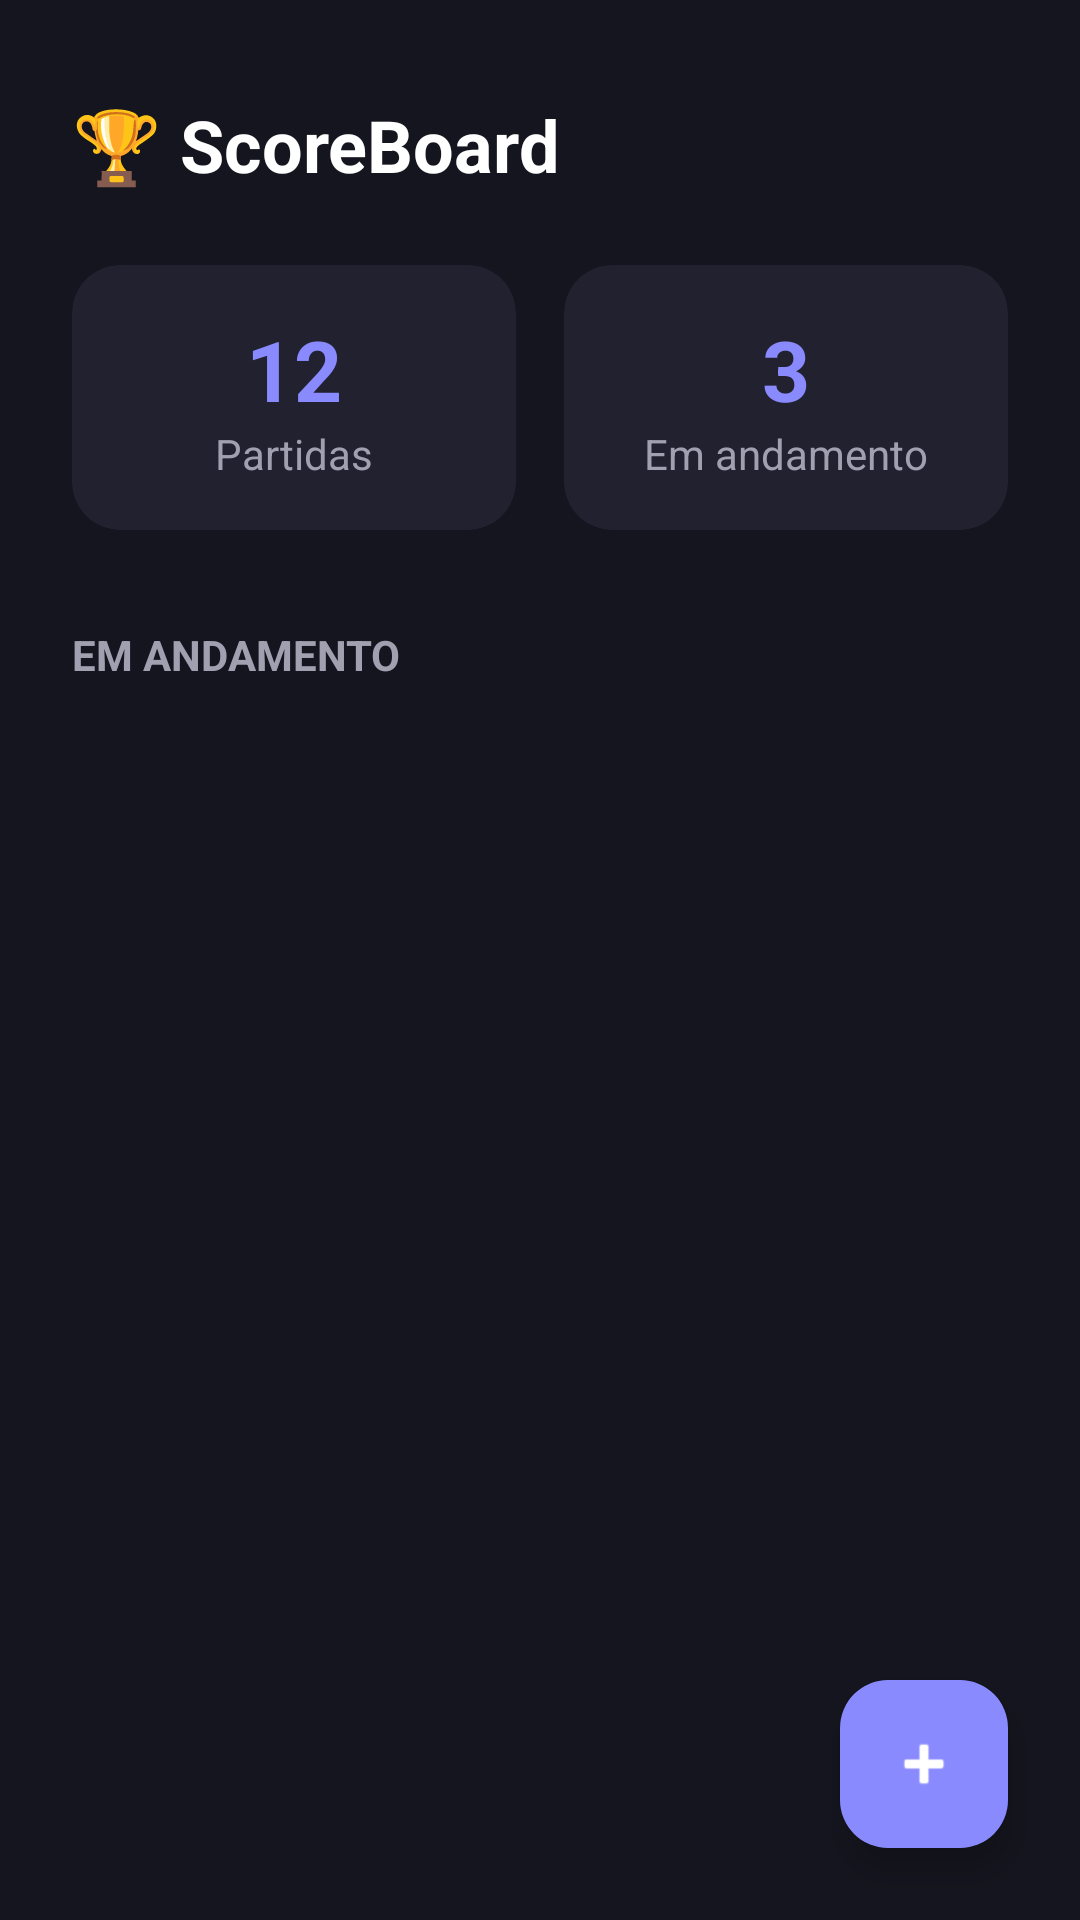

Screen size 1080 × 1920. Icon name, then its center in pixels as point (x, y):
Nova Partida: point (924, 1764)
